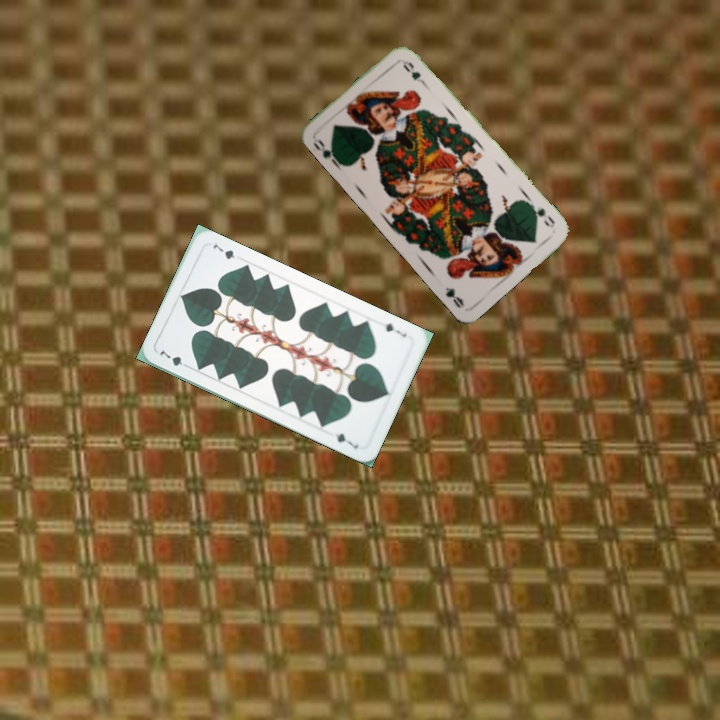G7: (155, 346, 193, 371), (381, 319, 409, 340)
GO: (309, 134, 344, 170), (525, 199, 557, 230)
